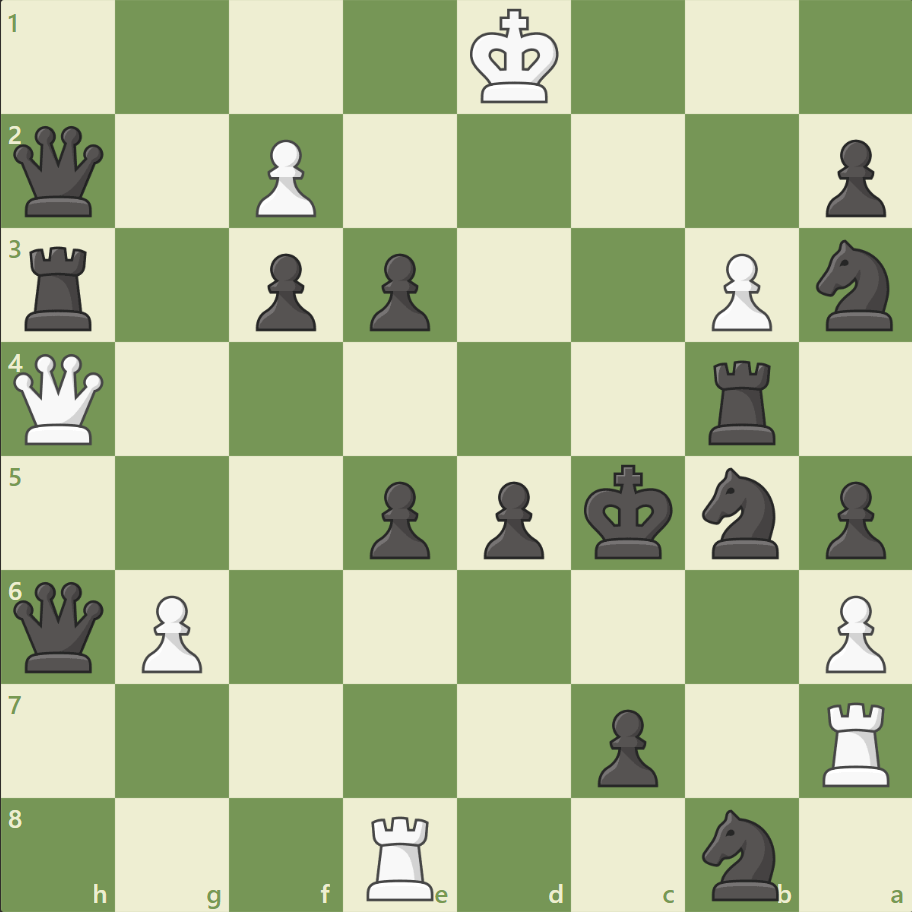K: (465, 4, 565, 112)
P: (133, 586, 208, 677), (701, 246, 776, 337), (247, 132, 322, 223), (815, 586, 889, 677)
Q: (10, 349, 109, 449)
R: (814, 693, 897, 790), (360, 806, 442, 904)
k: (579, 458, 679, 566)
n: (692, 461, 789, 564), (806, 234, 903, 337), (692, 802, 789, 904)
p: (474, 473, 549, 564), (247, 246, 322, 337), (588, 700, 662, 791), (815, 473, 889, 564), (361, 473, 435, 564), (361, 246, 435, 337), (815, 132, 889, 223)
q: (10, 576, 109, 676), (10, 122, 109, 222)
r: (700, 352, 783, 449), (19, 239, 102, 336)
